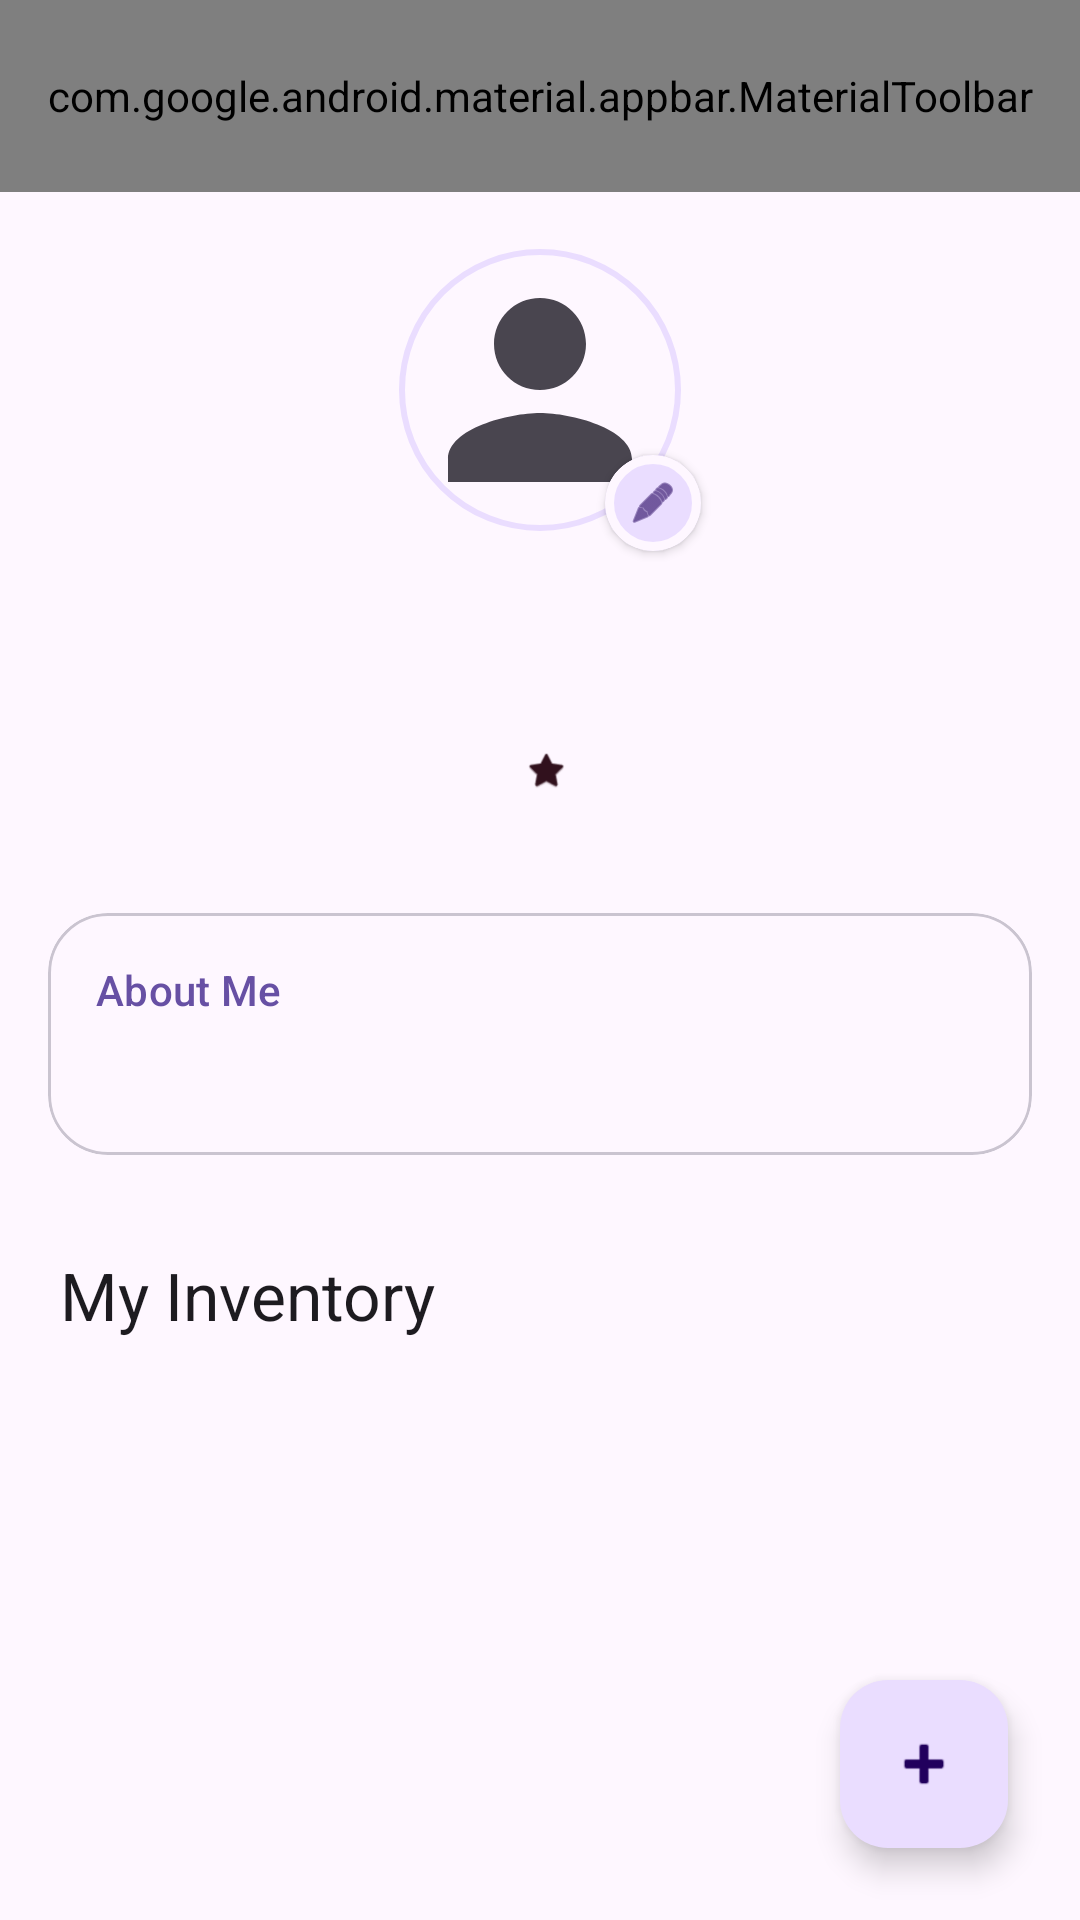

Locate icon controls on the screen. Image size 1080 × 1920, boxes as (x1, y1, x2, y2).
Add New Item: (840, 1680, 1008, 1848)
star on: (529, 753, 564, 787)
